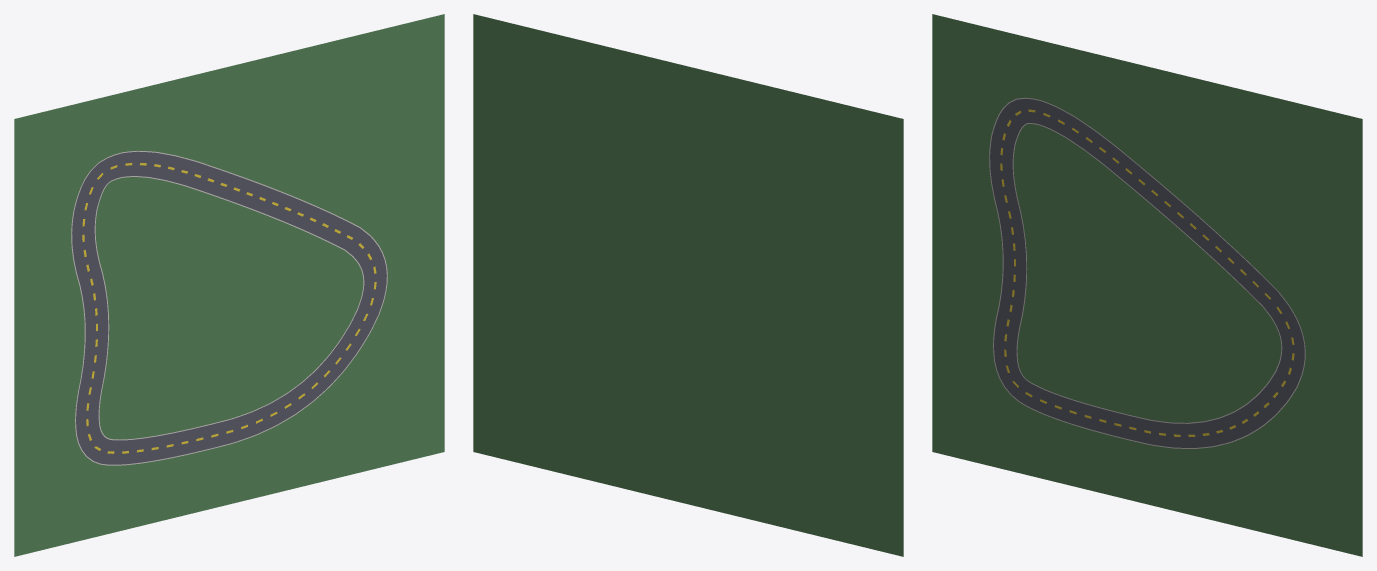
Rendered from track.obj.
The picture shows the model from 3 angles, left to right: view 1: azimuth 30°, elevation 25°; view 2: azimuth 150°, elevation 25°; view 3: azimuth 330°, elevation 25°; orthographic projection.
Bounding box in the file's own units: 18.76 × 18.24 × 0.0025.
Materials: 4 (4 with a texture image).
